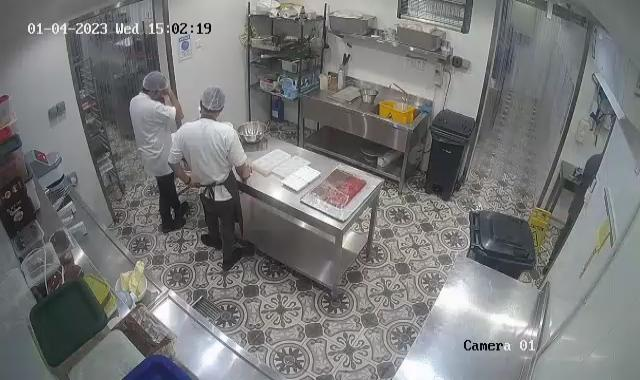hairnet: (142, 66, 170, 95), (198, 90, 227, 116)
